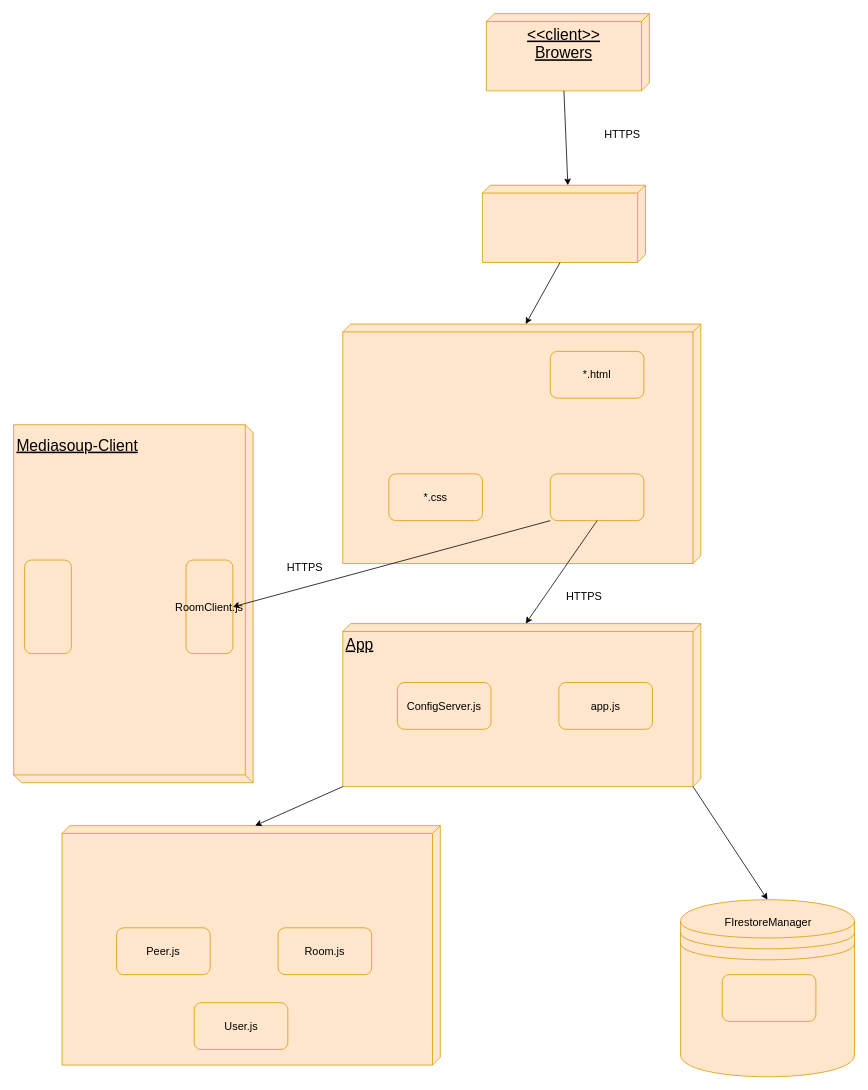
Some shapes in this 868 by 1090 pixel diagram are drawn without their labels. The shapes that lost their labels are listed below. From the top down, each one's box as (x1, y1, x2, y2) in pixels, then its label:
(482, 184, 645, 262): <<web_server>> Reverse_Proxy
(342, 323, 701, 564): WebUI
(550, 473, 644, 521): script.js
(24, 559, 71, 654): roomPage.js
(61, 825, 440, 1065): ClassService
(722, 974, 816, 1021): Firebase.js
